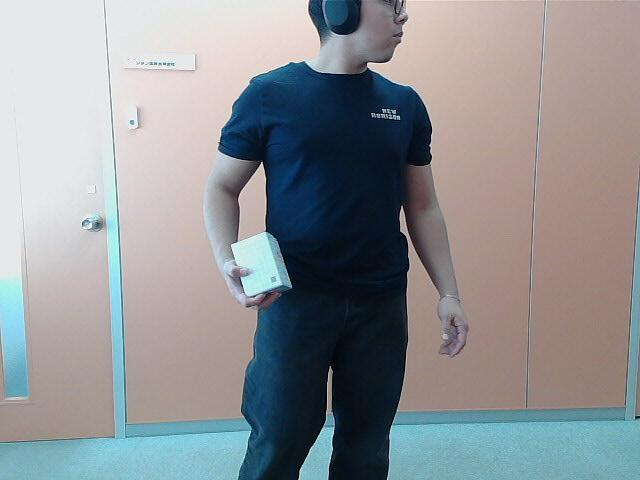Blind_box: (230, 230, 298, 298)
